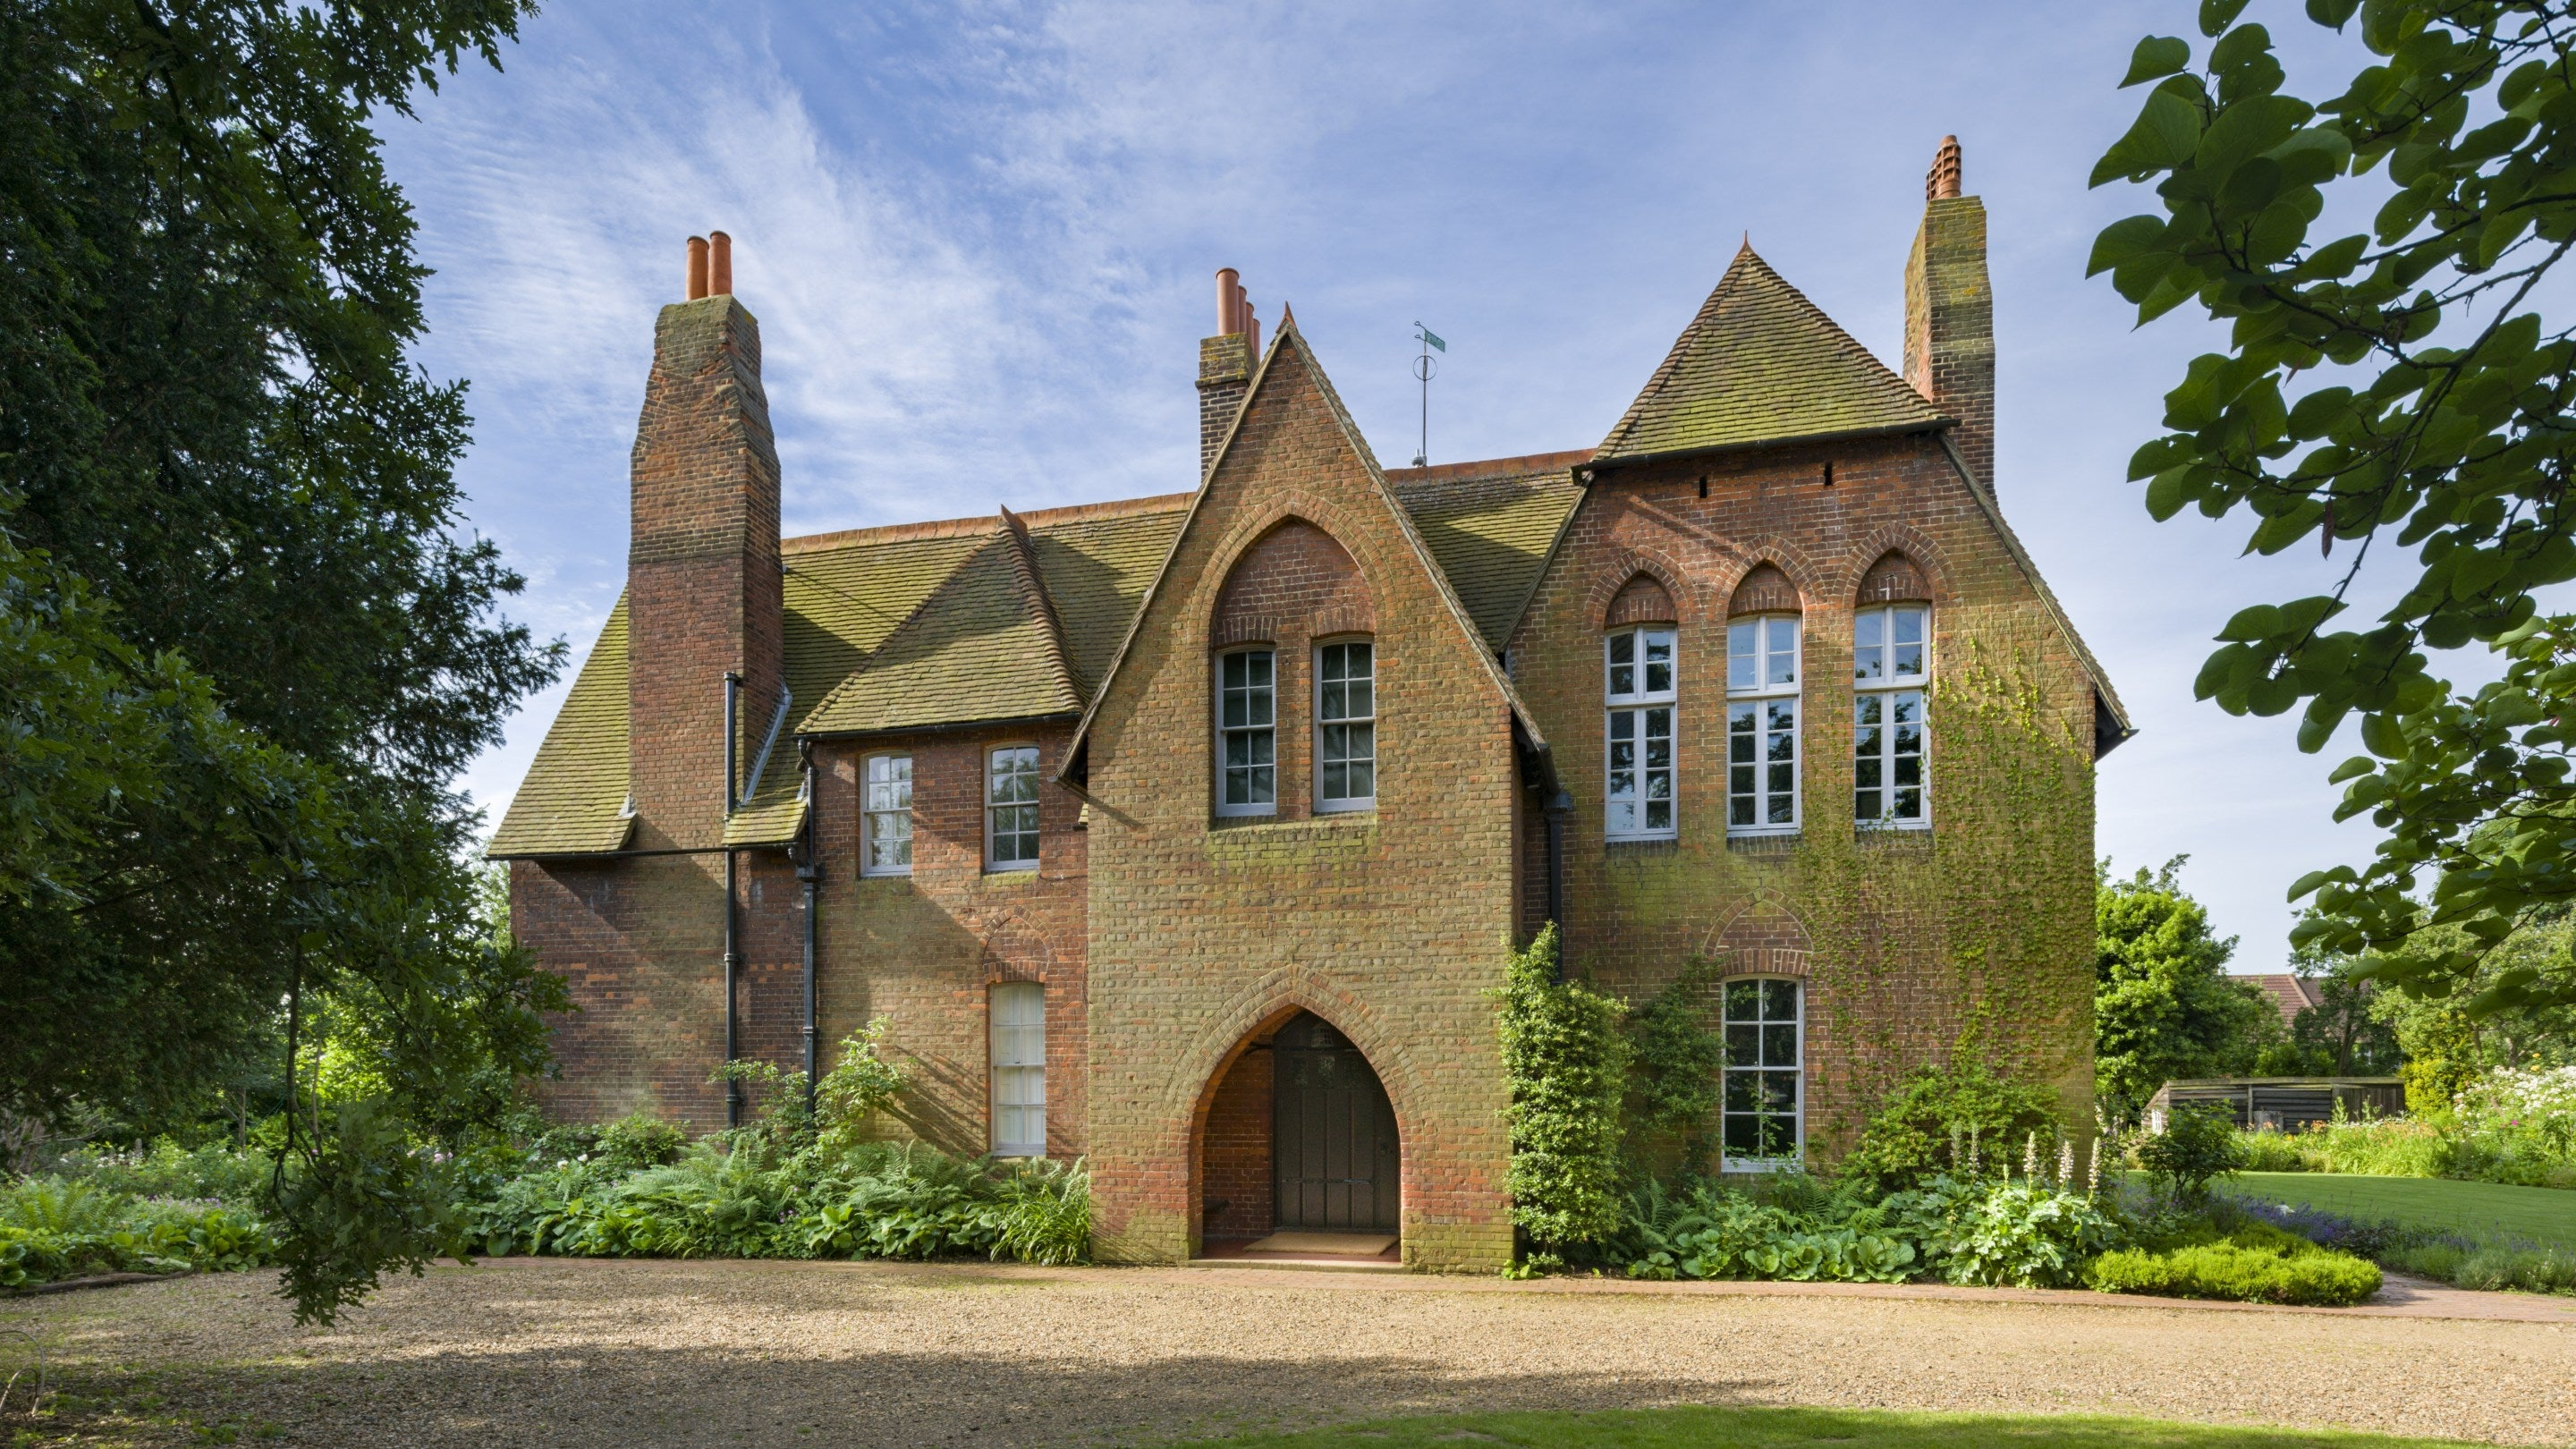Window: (1856, 602, 1939, 826), (1723, 614, 1805, 835), (1596, 633, 1679, 835), (1718, 971, 1799, 1161), (1306, 635, 1380, 821), (1212, 637, 1283, 817), (856, 752, 920, 876), (984, 750, 1049, 870)
